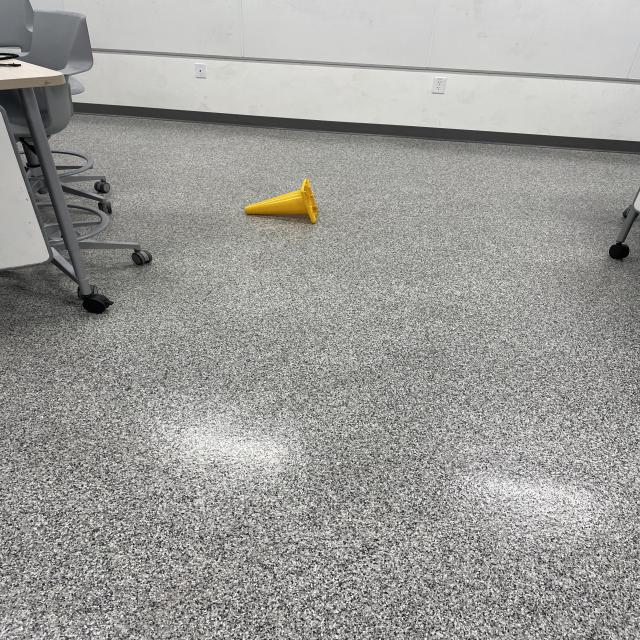frc_cone: (240, 172, 320, 226)
